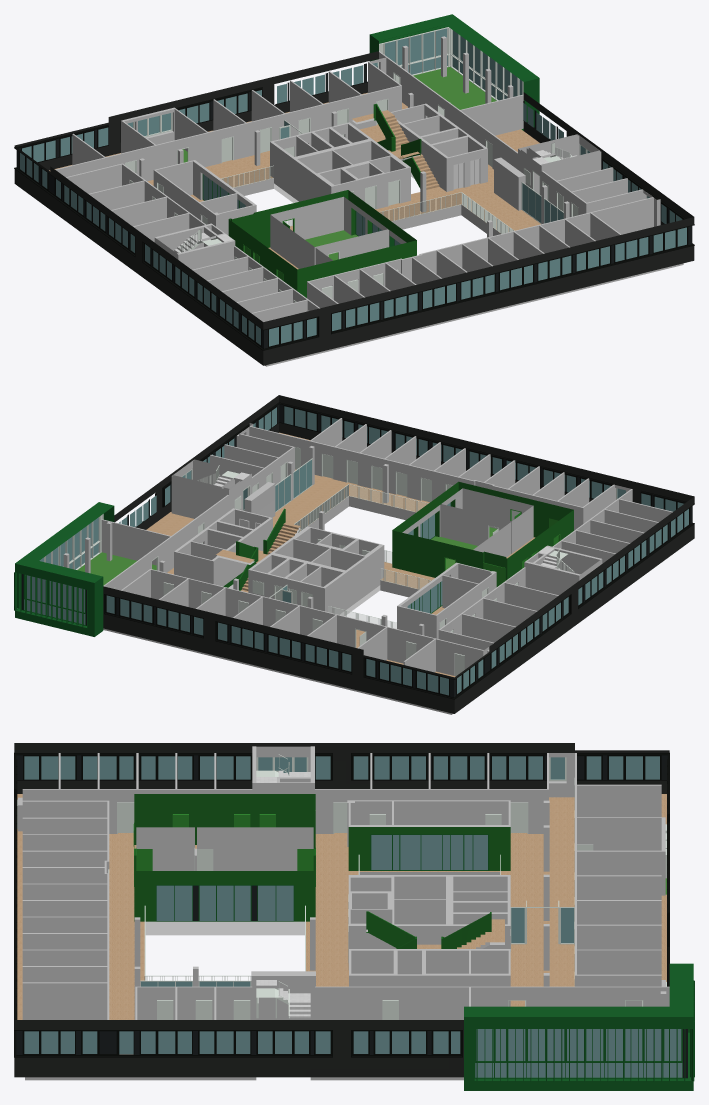
3 renders of one model, top to bottom at view 1: azimuth 30°, elevation 25°; view 2: azimuth 150°, elevation 25°; view 3: azimuth 270°, elevation 25°, orthographic. The views are drawn at different scales.
Parts seen in each view (by area): view 1: LEVEL2_WALL_01, LEVEL2_FACADE_00, LEVEL2_GLASS_00, LEVEL2_WALL_02, LEVEL2_FLOOR_CEILING_00, LEVEL2_FACADE_45, LEVEL2_WALL_00, LEVEL2_STAIRS_00, LEVEL2_RAILING_01, LEVEL2_RAILING_02; view 2: LEVEL2_WALL_01, LEVEL2_FACADE_00, LEVEL2_GLASS_00, LEVEL2_WALL_02, LEVEL2_FACADE_45, LEVEL2_FLOOR_CEILING_00, LEVEL2_RAILING_01, LEVEL2_STAIRS_00, LEVEL2_WALL_00, LEVEL2_RAILING_00; view 3: LEVEL2_WALL_01, LEVEL2_GLASS_00, LEVEL2_FACADE_00, LEVEL2_FLOOR_CEILING_00, LEVEL2_WALL_02, LEVEL2_FACADE_45, LEVEL2_STAIRS_00, LEVEL2_WALL_00, LEVEL2_FRAME_04, LEVEL2_STAIRS_01, LEVEL2_WALL_03, LEVEL2_FRAME_05 (+3 smaller).
Part boxes in pixels (box(x1,y1,x2,y2)): LEVEL2_WALL_01: box(55, 27, 660, 321); LEVEL2_FACADE_00: box(14, 14, 694, 365); LEVEL2_GLASS_00: box(20, 28, 686, 346); LEVEL2_WALL_02: box(228, 190, 416, 297); LEVEL2_FLOOR_CEILING_00: box(49, 67, 683, 366); LEVEL2_FACADE_45: box(14, 26, 694, 350); LEVEL2_WALL_00: box(139, 36, 569, 237); LEVEL2_STAIRS_00: box(352, 103, 443, 198); LEVEL2_RAILING_01: box(379, 192, 514, 233); LEVEL2_RAILING_02: box(221, 165, 273, 187); LEVEL2_WALL_01: box(44, 418, 672, 675); LEVEL2_FACADE_00: box(15, 395, 694, 713); LEVEL2_GLASS_00: box(24, 406, 688, 695); LEVEL2_WALL_02: box(392, 481, 573, 580); LEVEL2_FACADE_45: box(21, 402, 694, 699); LEVEL2_FLOOR_CEILING_00: box(77, 432, 535, 714); LEVEL2_RAILING_01: box(294, 484, 428, 563); LEVEL2_STAIRS_00: box(216, 508, 300, 592); LEVEL2_WALL_00: box(63, 446, 424, 635); LEVEL2_RAILING_00: box(380, 568, 430, 589); LEVEL2_WALL_01: box(17, 746, 669, 1054); LEVEL2_GLASS_00: box(24, 756, 682, 1077); LEVEL2_FACADE_00: box(14, 743, 693, 1090); LEVEL2_FLOOR_CEILING_00: box(17, 794, 666, 1080); LEVEL2_WALL_02: box(134, 794, 315, 921); LEVEL2_FACADE_45: box(14, 753, 687, 1078); LEVEL2_STAIRS_00: box(366, 911, 504, 948); LEVEL2_WALL_00: box(134, 800, 666, 1019); LEVEL2_FRAME_04: box(156, 885, 294, 921); LEVEL2_STAIRS_01: box(256, 988, 310, 1018); LEVEL2_WALL_03: box(256, 746, 310, 771); LEVEL2_FRAME_05: box(370, 834, 488, 870).
Bounding box in the file's own units: 41.98 × 5.65 × 41.94.
